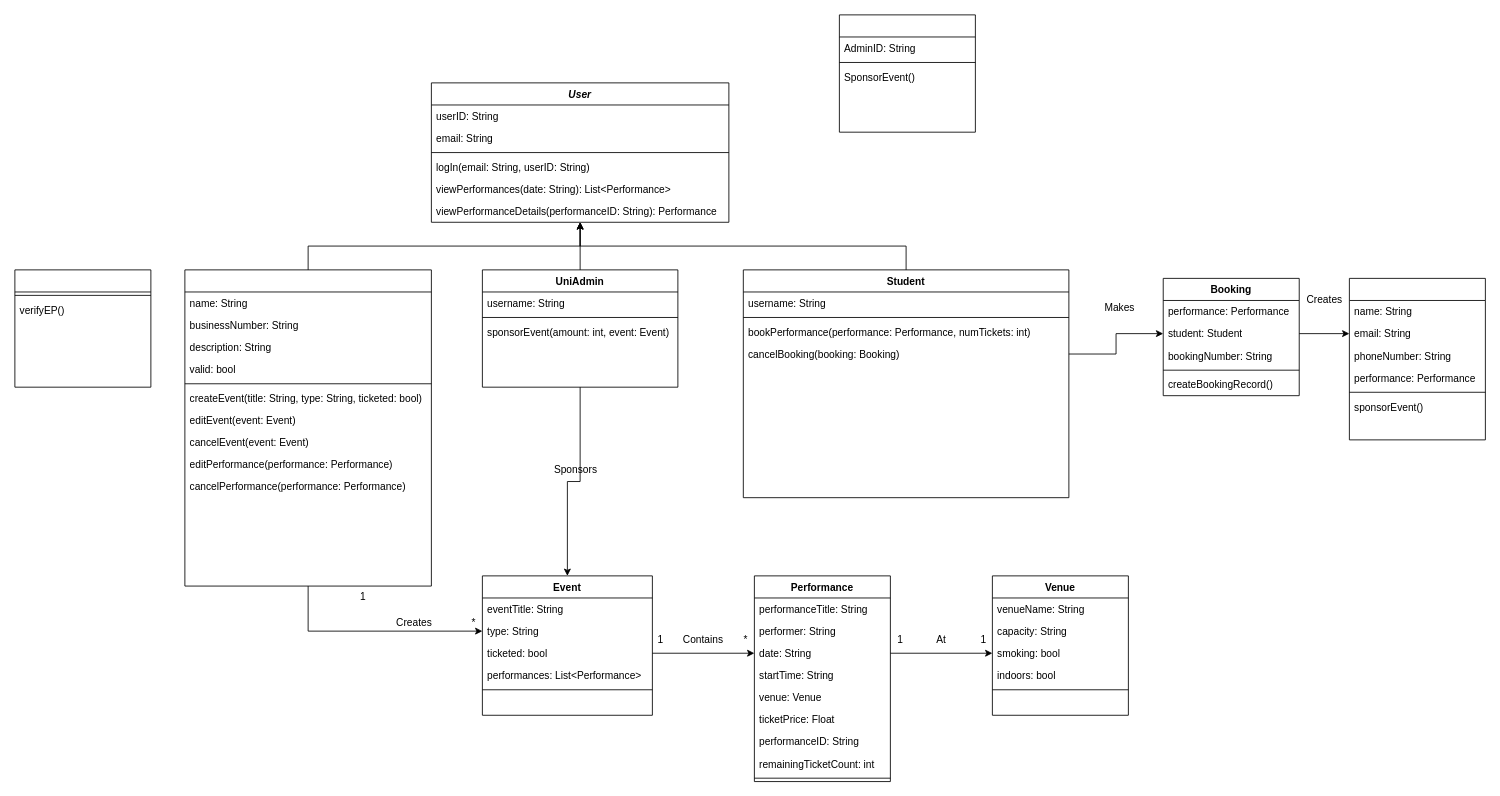
This 1500x796 diagram has some shape labels left out. The shapes that lost their labels are listed below. From the top down, each one's box as (x1, y1, x2, y2) in pixels, then its label:
(839, 14, 975, 132): API
(14, 269, 151, 387): Authenticator
(1349, 278, 1485, 440): BookingRecord
(184, 269, 431, 586): EP
